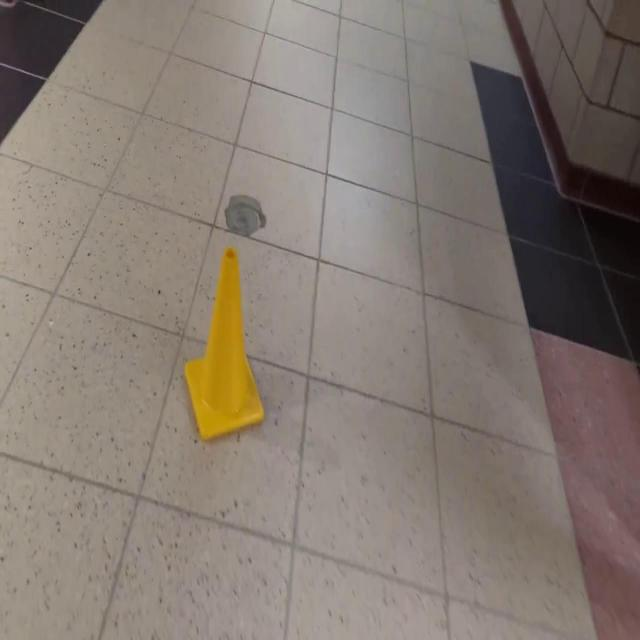frc_cone: (183, 246, 264, 444)
